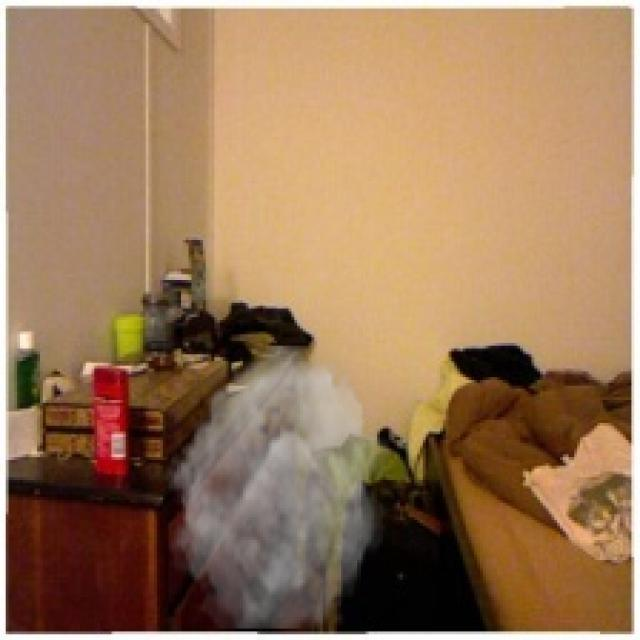Smoke: (162, 346, 392, 628)
